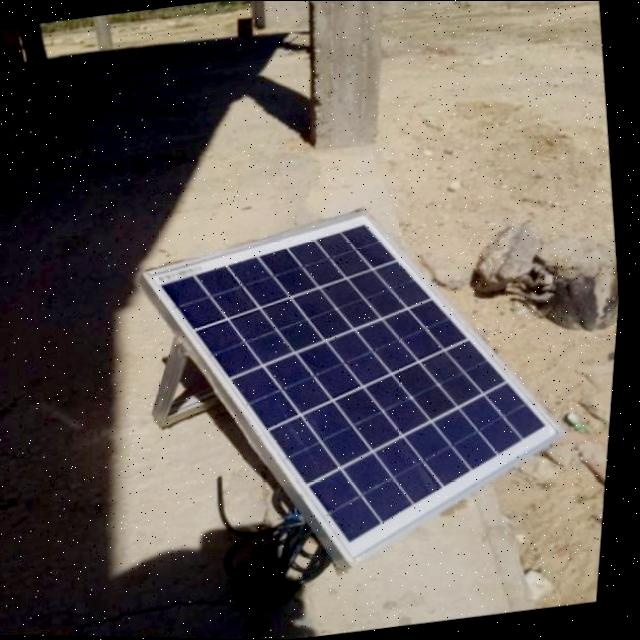Normal Solar Panel: (127, 182, 598, 592)
